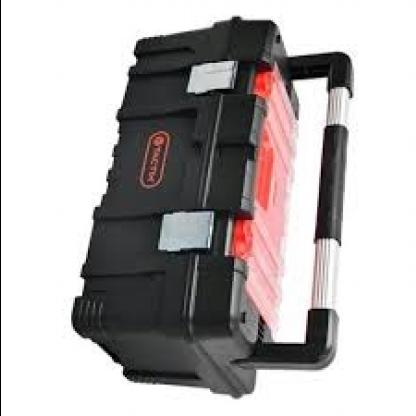Tool Box: (66, 11, 364, 402)
